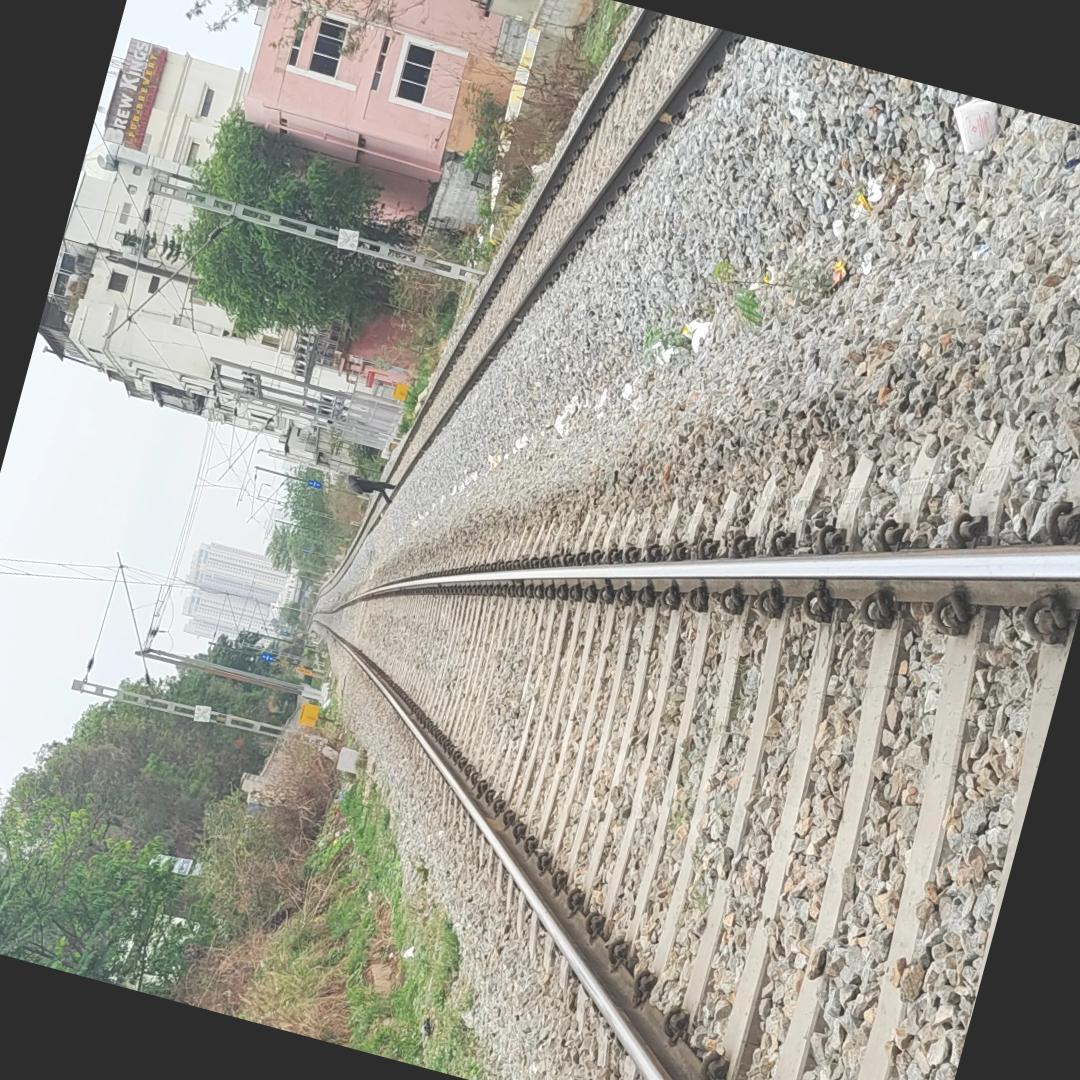standing: (339, 464, 410, 510)
track: (299, 458, 1080, 1080)
